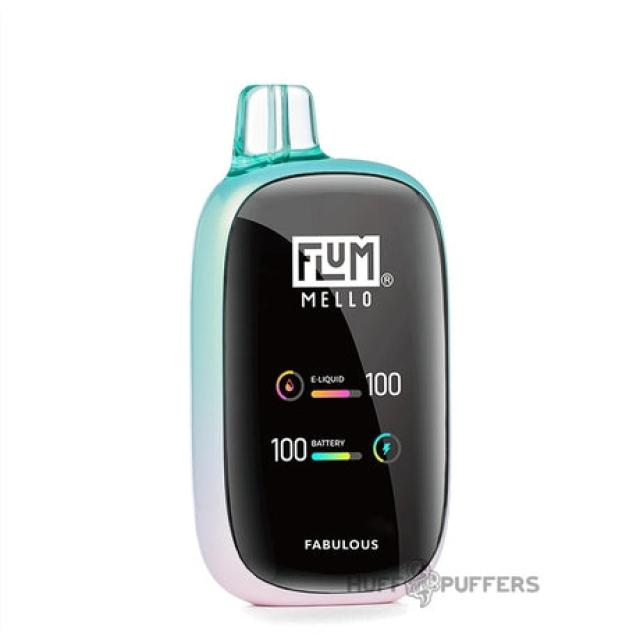Hazard: (188, 82, 451, 607)
